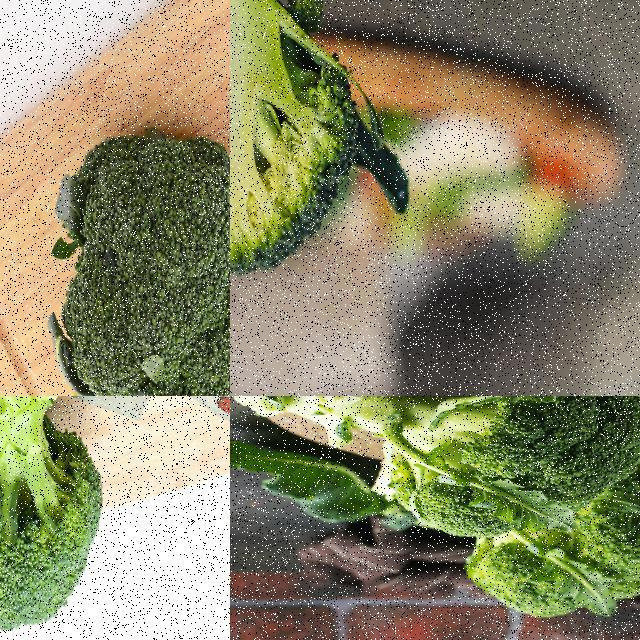broccoli: (230, 396, 639, 539), (42, 122, 229, 395), (230, 0, 384, 294), (462, 458, 639, 624), (0, 396, 104, 639)
